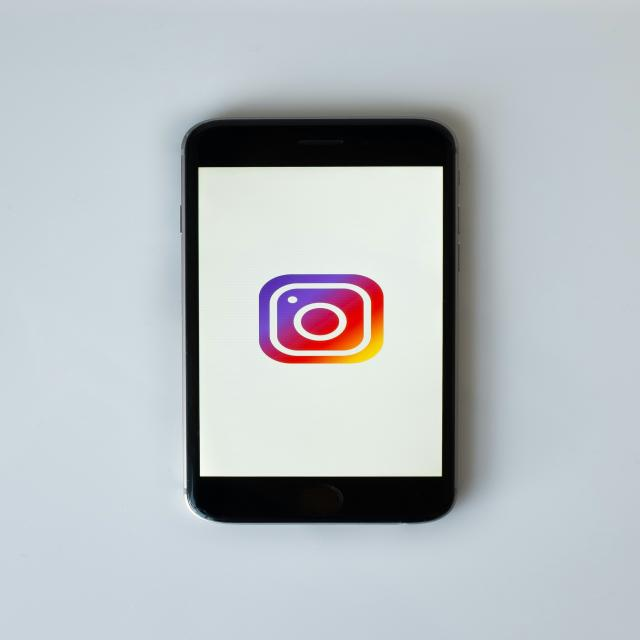Mobile: (169, 86, 480, 550)
